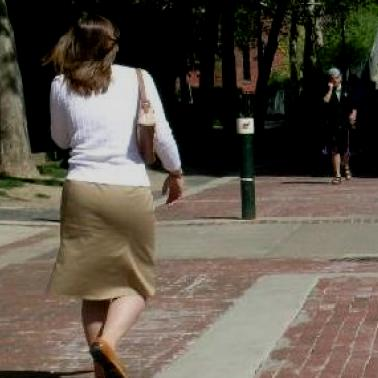ped: (37, 15, 182, 378), (324, 68, 357, 183)
